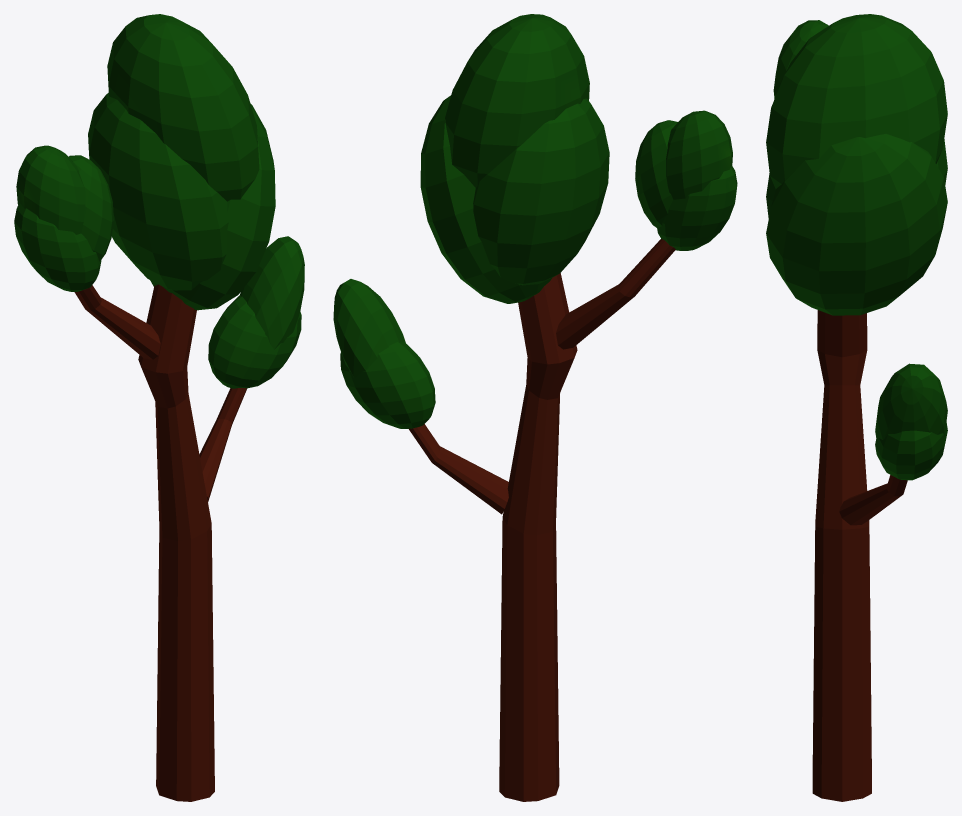
The model's file is Avore Var. 3.fbx.
3 renders of one model, left to right at view 1: azimuth 30°, elevation 25°; view 2: azimuth 150°, elevation 25°; view 3: azimuth 270°, elevation 25°, orthographic. The views are drawn at different scales.
Parts seen in each view (by area): view 1: Arvore3; view 2: Arvore3; view 3: Arvore3.
Part boxes in pixels (left/top/right/bottom): Arvore3: left=14, top=14, right=304, bottom=801; Arvore3: left=333, top=14, right=737, bottom=801; Arvore3: left=766, top=14, right=947, bottom=801.
Bounding box in the file's own units: 275 × 600 × 129.
